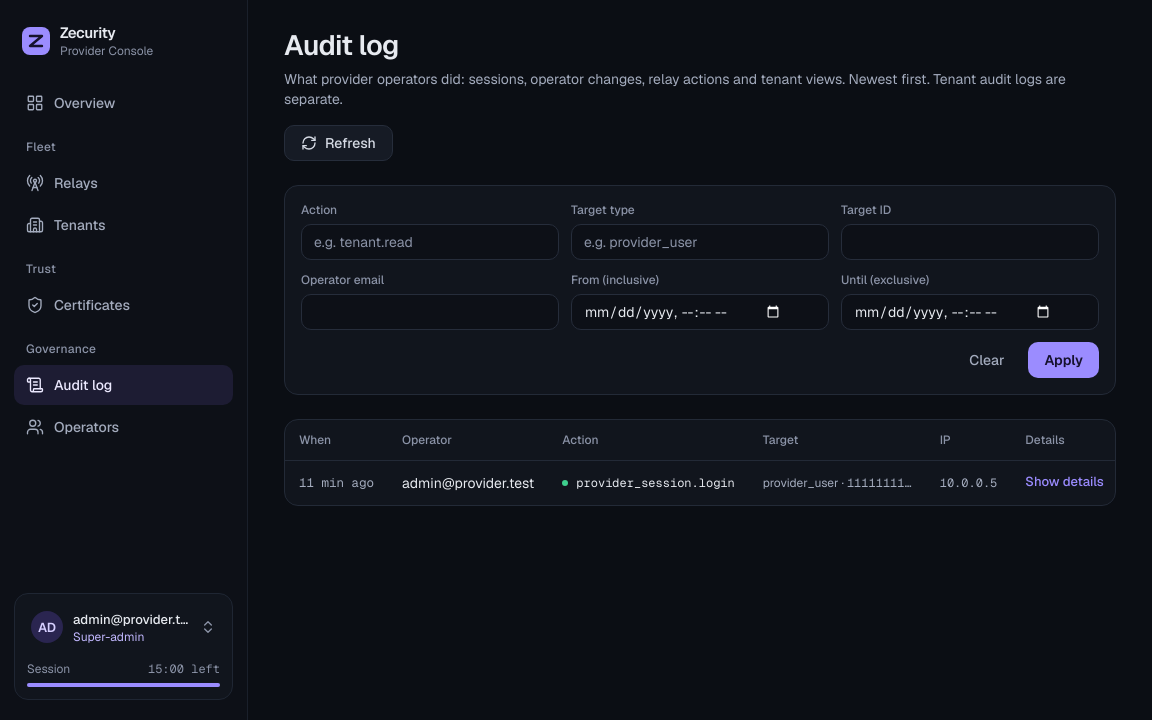
Test: Audit: details › details value false renders as its JSON text
The image size is (1152, 720).
Expected: the table named "Audit entries" is shown, top-left (285, 420), bottom-right (1115, 504)
Click the button "Show details": (1065, 482) top-left (1025, 473), bottom-right (1104, 492)
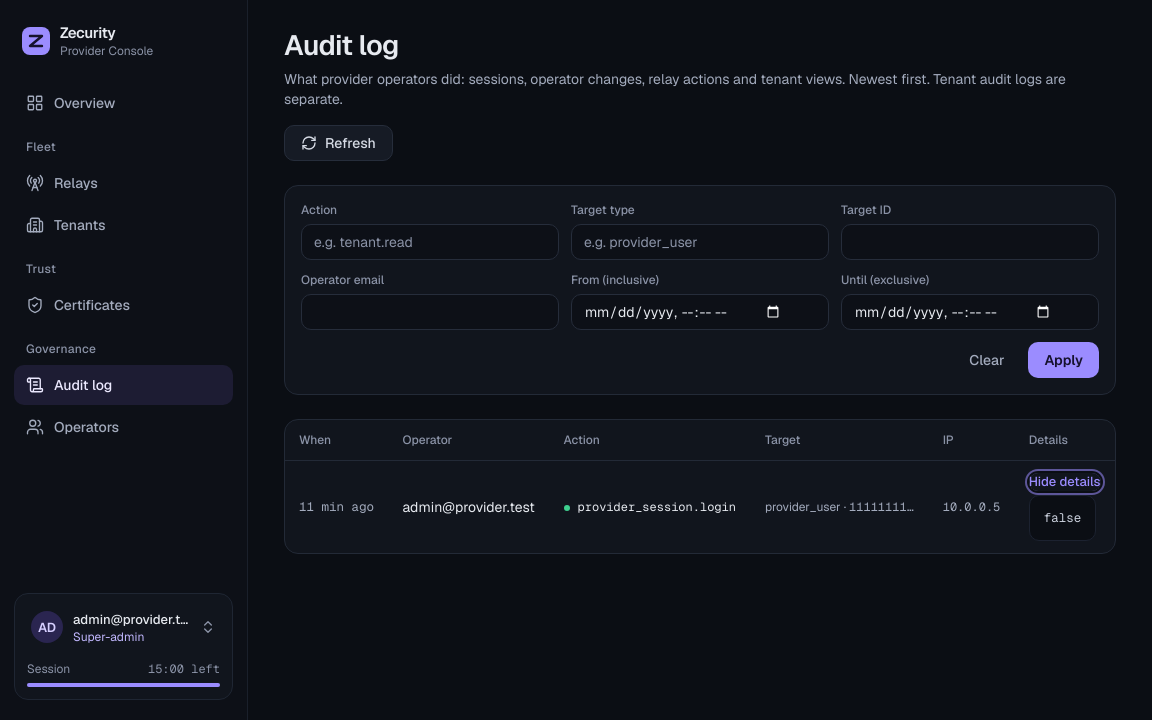
Expected: the text named "Details JSON" reads "false", top-left (1044, 509), bottom-right (1081, 526)
